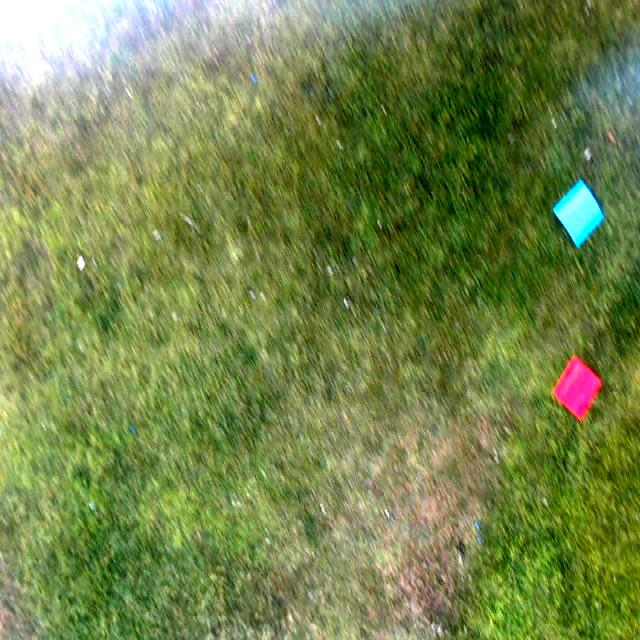blue_square: (552, 179, 606, 247)
red_square: (549, 355, 605, 422)
